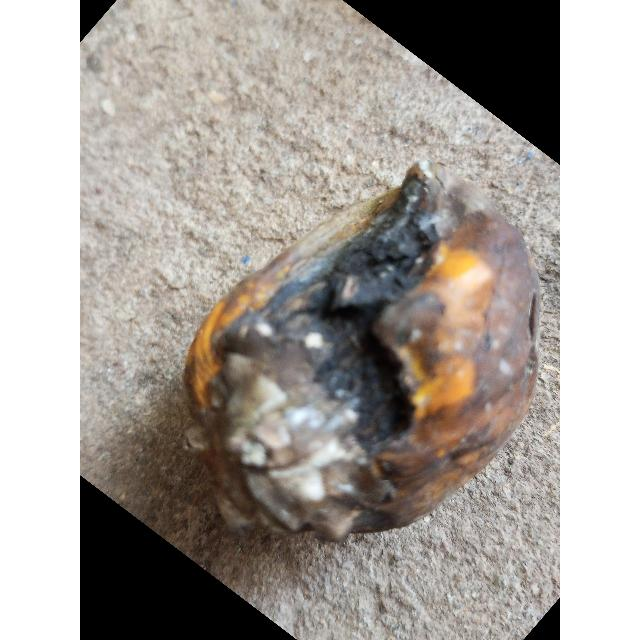damaged: (185, 160, 539, 541)
